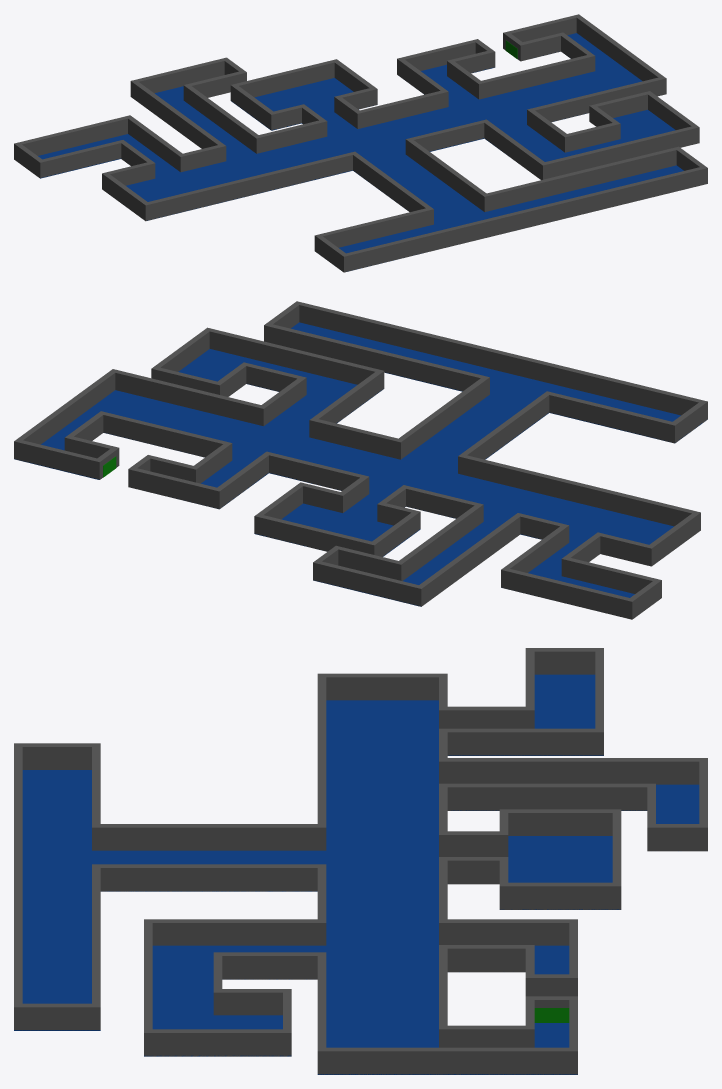
File: room.DAE
The picture shows the model from 3 angles, top to bottom: view 1: azimuth 30°, elevation 25°; view 2: azimuth 150°, elevation 25°; view 3: azimuth 270°, elevation 25°; orthographic projection. The views are drawn at different scales.
Parts seen in each view (by area): view 1: Walls, Floor; view 2: Walls, Floor; view 3: Walls, Floor.
Part boxes in pixels (<box>): Walls: <box>14,14,707,272</box>; Floor: <box>38,33,683,271</box>; Walls: <box>14,301,707,619</box>; Floor: <box>14,322,707,606</box>; Walls: <box>14,648,707,1074</box>; Floor: <box>14,674,699,1074</box>.
Size of the model in its own units: 1100 by 800 by 30.
